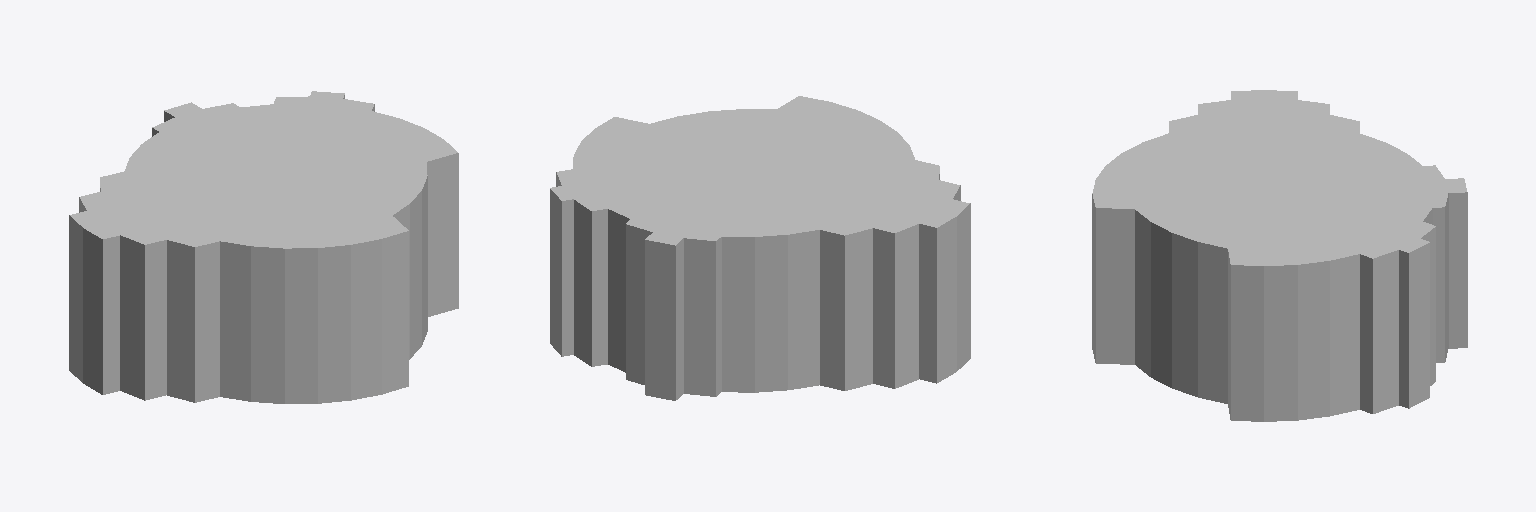
Rendered from timber_hearth.obj.
3 views of the same model, side by side, from view 1: azimuth 30°, elevation 25°; view 2: azimuth 150°, elevation 25°; view 3: azimuth 270°, elevation 25° (orthographic).
Visible parts, largest first — view 1: Cylinder.002_Cylinder.006; view 2: Cylinder.002_Cylinder.006; view 3: Cylinder.002_Cylinder.006.
Part boxes in pixels (x1,y1,x2,y2): Cylinder.002_Cylinder.006: (69,91,458,403); Cylinder.002_Cylinder.006: (550,96,970,400); Cylinder.002_Cylinder.006: (1092,90,1467,421).
Bounding box in the file's own units: 2.43 × 1 × 2.18.